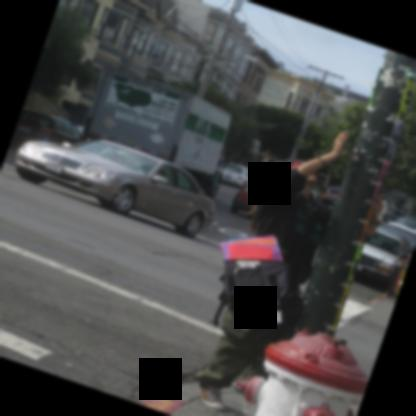backpack: (210, 250, 298, 329)
